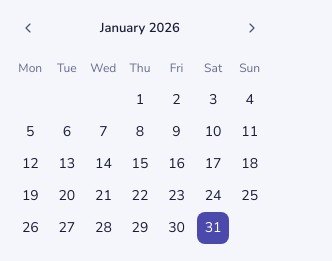
Test case: Calendar › moves between months without selecting, clamping the day
Click the button named "Next month". click: [252, 28]
box: [236,12,268,44]
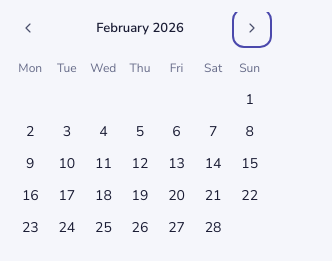
Check: the table named "February 2026" is shown, box [12,52,268,244]
